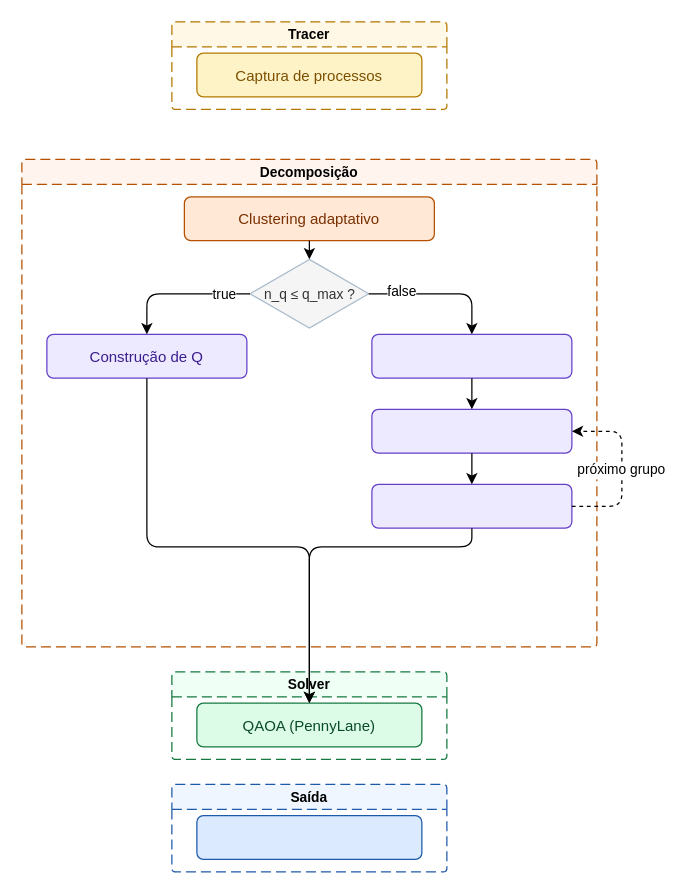
Some shapes in this 689 by 894 pixel diagram are drawn without their labels. The centre of each missing label's shape, as x and y in pixels:
"Actualização de φ" belongs at pixel 471 505.
"Decomposição SubQUBO" belongs at pixel 471 355.
"Resolução iterativa" belongs at pixel 471 430.
"Resultados e métricas" belongs at pixel 309 836.
